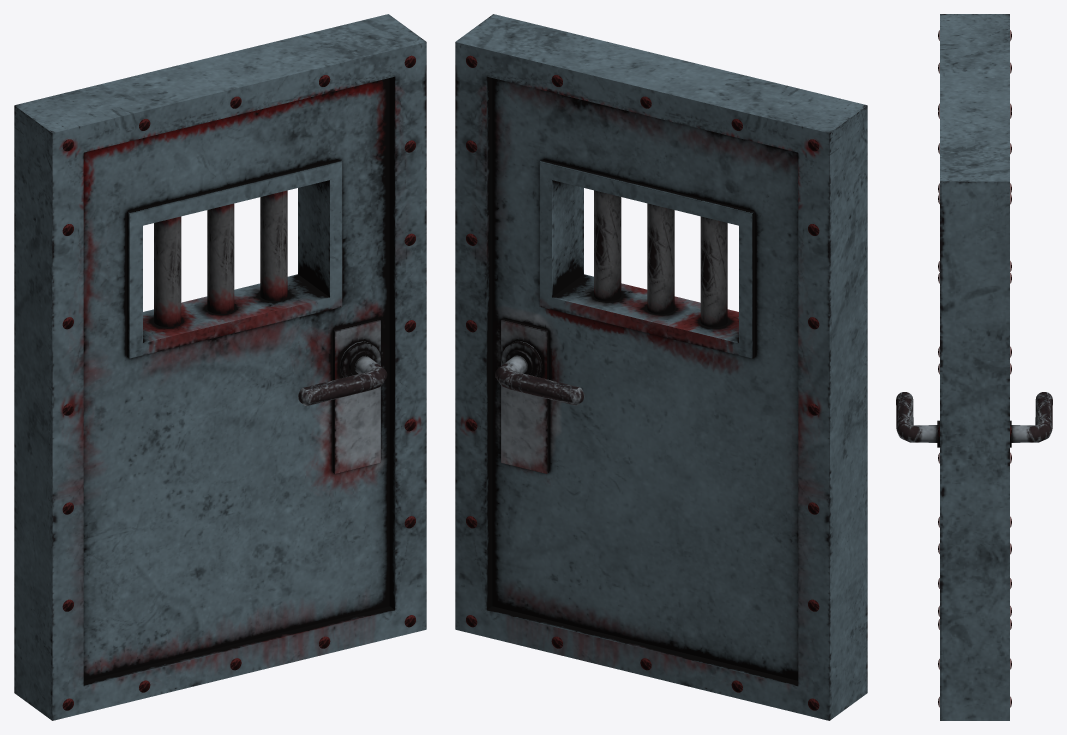
File: Celldoor01.FBX
3 renders of one model, left to right at view 1: azimuth 30°, elevation 25°; view 2: azimuth 150°, elevation 25°; view 3: azimuth 270°, elevation 25°, orthographic. The views are drawn at different scales.
Parts seen in each view (by area): view 1: Box001, Cylinder003, Cylinder001, Cylinder002, Cylinder004; view 2: Box001, Cylinder003, Cylinder001, Cylinder002, Cylinder005; view 3: Box001.
Boxes of the visible parts, x1=… form: Box001: x1=14, y1=14, x2=426, y2=720; Cylinder003: x1=154, y1=216, x2=181, y2=326; Cylinder001: x1=207, y1=203, x2=234, y2=313; Cylinder002: x1=260, y1=190, x2=287, y2=300; Cylinder004: x1=340, y1=341, x2=380, y2=377; Box001: x1=455, y1=14, x2=867, y2=720; Cylinder003: x1=700, y1=216, x2=727, y2=327; Cylinder001: x1=647, y1=203, x2=674, y2=314; Cylinder002: x1=594, y1=190, x2=621, y2=301; Cylinder005: x1=501, y1=341, x2=542, y2=377; Box001: x1=896, y1=14, x2=1052, y2=720.
Size of the model in its own units: 60 by 90 by 23.72.
1 material, 1 textured.
